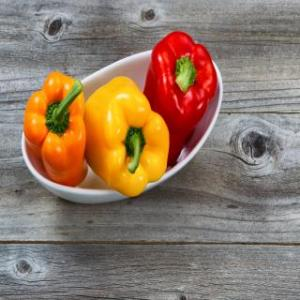bell_pepper: (88, 74, 170, 202), (144, 30, 218, 160), (21, 70, 86, 190)
